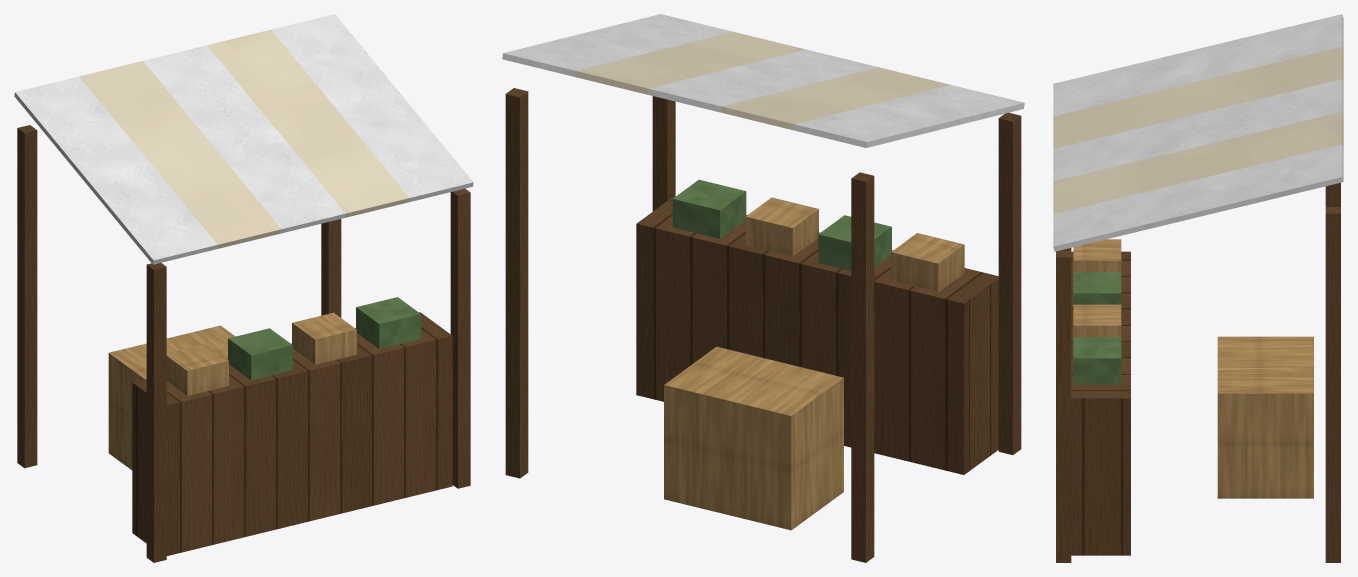
The model's file is market.stall.glb.
3 views of the same model, side by side, from view 1: azimuth 30°, elevation 25°; view 2: azimuth 150°, elevation 25°; view 3: azimuth 270°, elevation 25° (orthographic). The views are drawn at different scales.
Parts seen in each view (by area): view 1: prop.market.stall; view 2: prop.market.stall; view 3: prop.market.stall.
Part boxes in pixels (x1,y1,x2,y2): prop.market.stall: (14, 14, 473, 562); prop.market.stall: (502, 14, 1024, 562); prop.market.stall: (1053, 14, 1343, 562).
Size of the model in its own units: 2 by 2.21 by 1.51.
5 materials, 5 textured.
